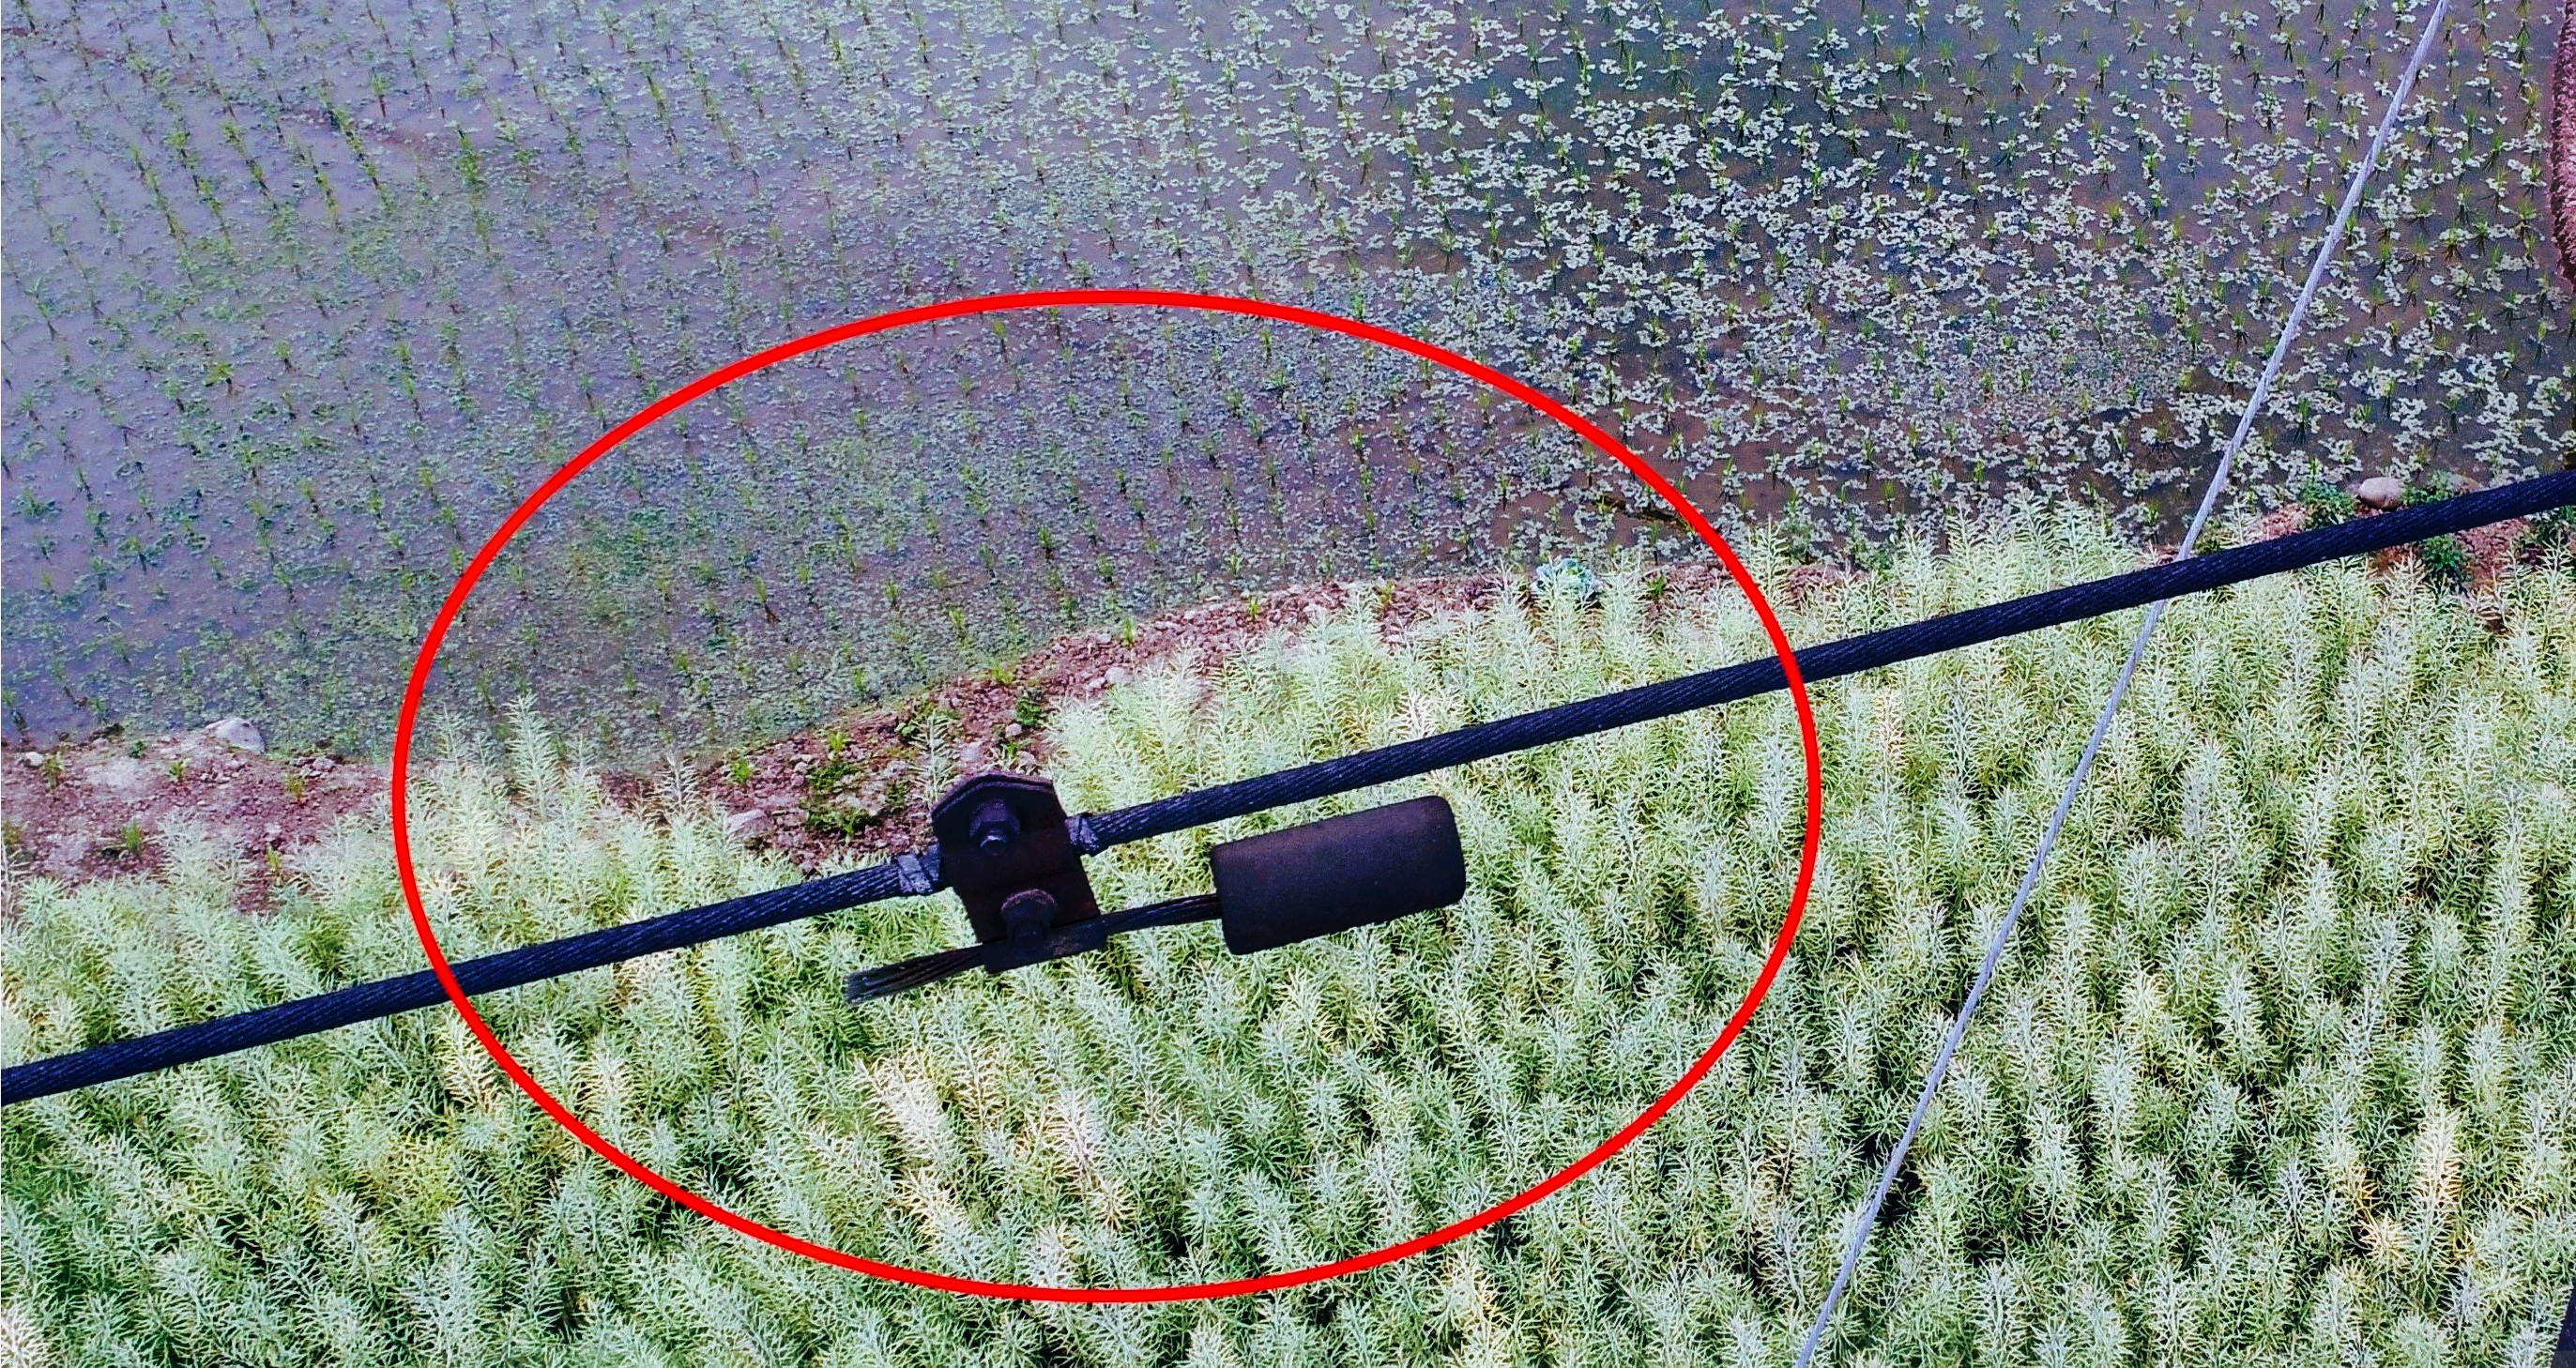Damage of shockproof hammer: (785, 705, 1518, 1053)
